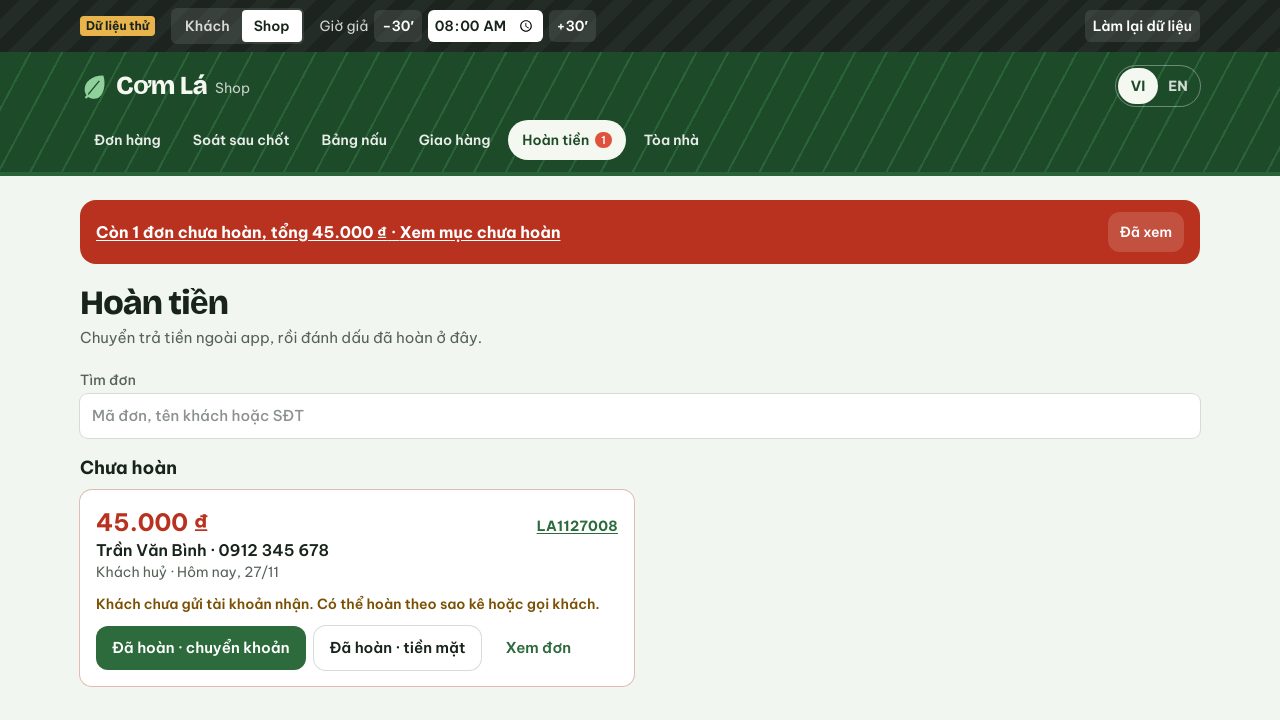
Scenario: refunds: shown, reminded, cash or transfer (CN-53, CN-54) › AC42, CN-53: the reminder bar shows on shop screens and "Seen" hides it
Expected: the link "Còn 1 đơn chưa hoàn, tổng 45.000 ₫ · Xem mục chưa hoàn" is shown, [96,220,560,244]
Click the button "Đã xem" at point(1146, 232), box [1108,212,1184,252]
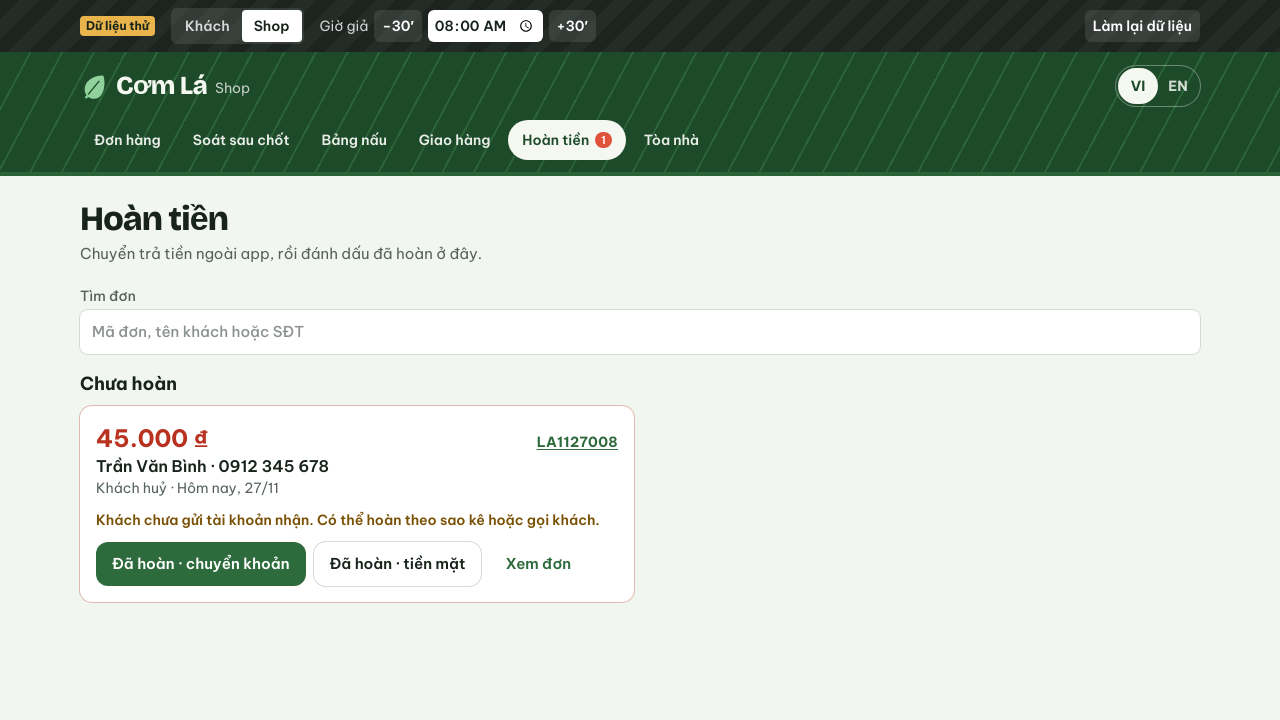
Expected: the message "Còn 1 đơn chưa hoàn, tổng 45.000 ₫ · Xem mục chưa hoàn Đã xem" is gone
